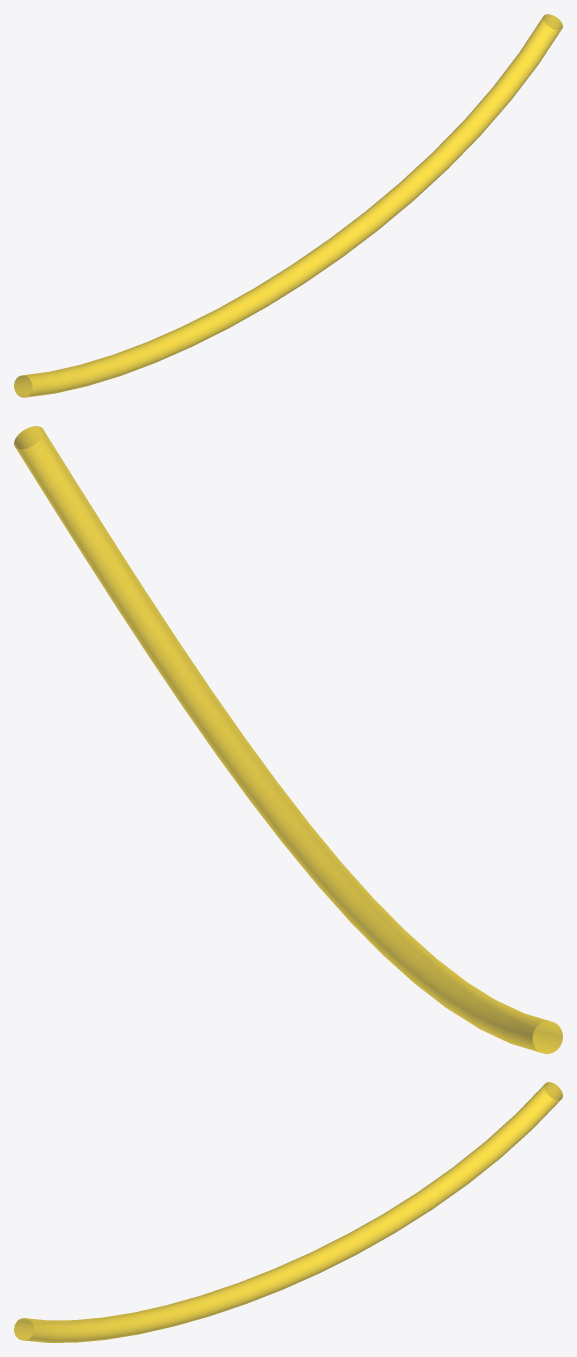
The model's file is Event_40932208_track_13.fbx.
The picture shows the model from 3 angles, top to bottom: view 1: azimuth 90°, elevation 25°; view 2: azimuth 150°, elevation 25°; view 3: azimuth 270°, elevation 25°; orthographic projection. The views are drawn at different scales.
Parts seen in each view (by area): view 1: Model; view 2: Model; view 3: Model.
Part boxes in pixels (x1,y1,x2,y2): Model: (14,14,562,397); Model: (14,426,562,1053); Model: (14,1082,562,1342).
Bounding box in the file's own units: 1.29 × 0.2438 × 0.9711.
